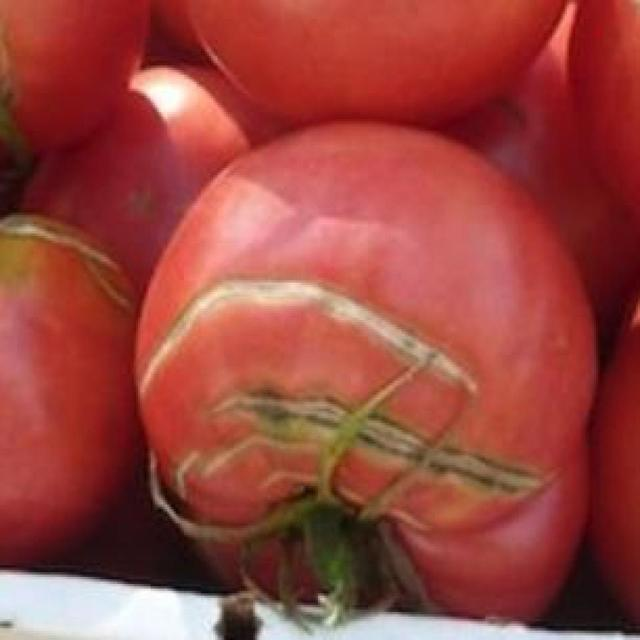Cracking Fruit: (31, 59, 410, 331)
